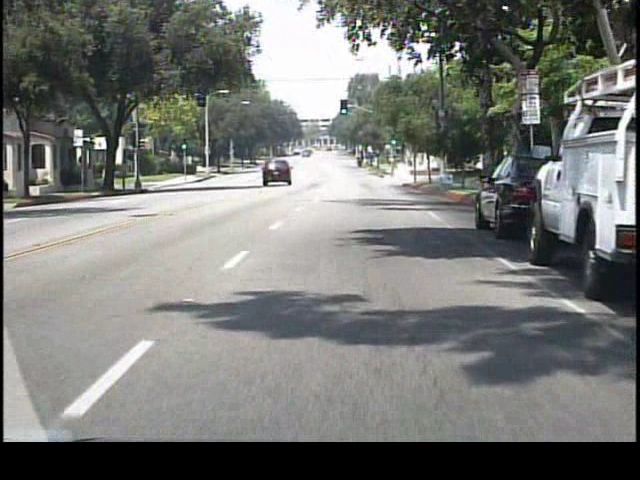person: (105, 168, 110, 194)
